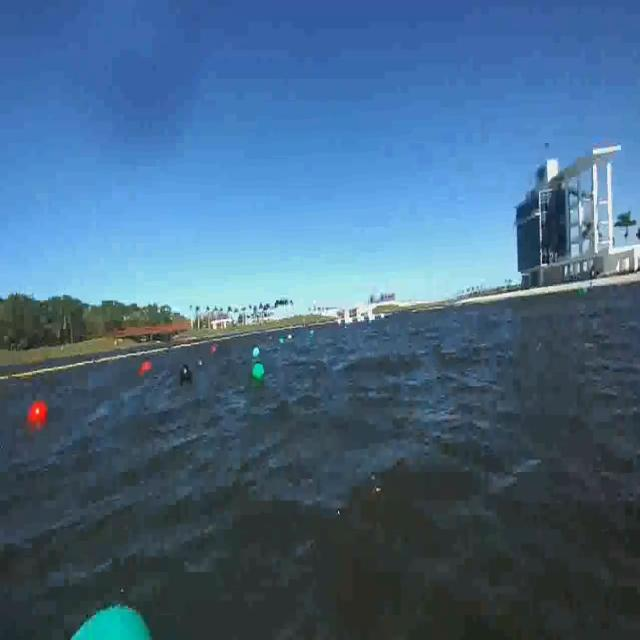black-buoy: (183, 365, 195, 382)
green-buoy: (49, 600, 169, 640), (254, 362, 267, 381)
red-buoy: (27, 402, 47, 427), (142, 361, 152, 371)
